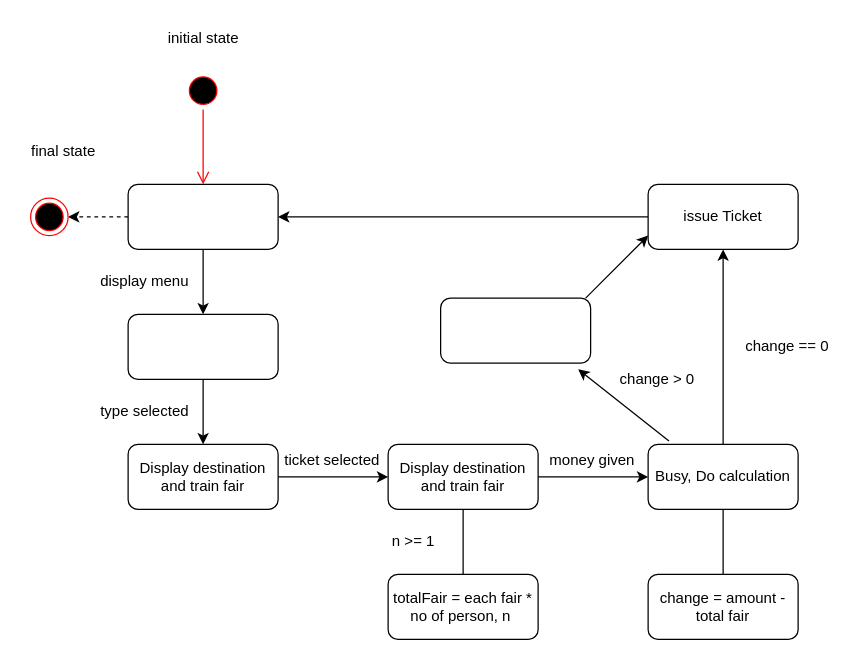
Image size: 849x661. Some labels were removed from this diagram. The centre of each missing label's shape, as x and y in pixels:
"Display Ticket Type" goes at point (202, 346).
"Idle" goes at point (202, 216).
"Return money" goes at point (515, 330).
